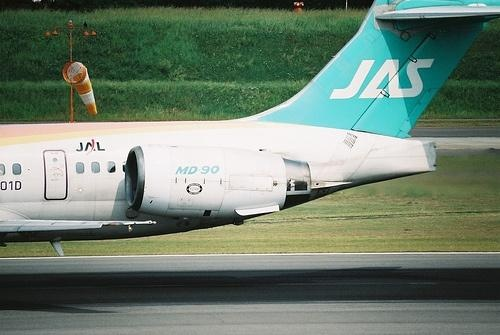aeroplane: (2, 3, 499, 260)
